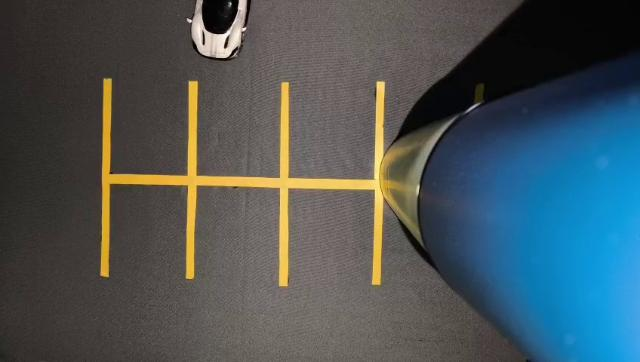toy_car: (172, 0, 270, 71)
